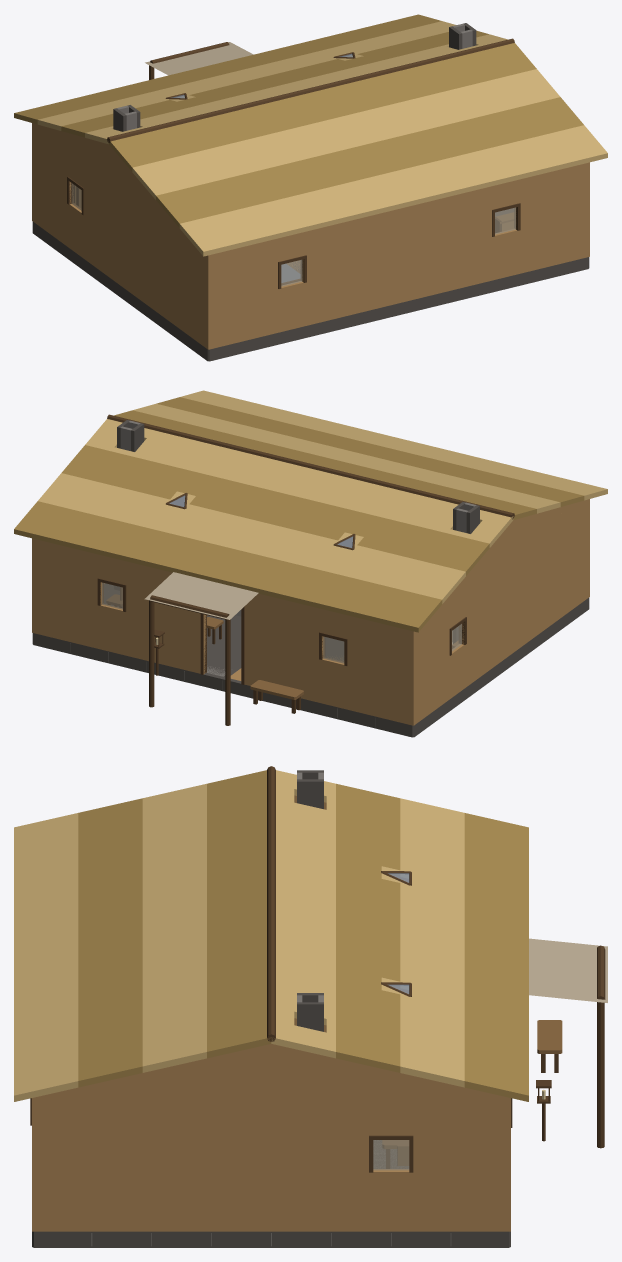
Rendered from SM_CASA_03_CASONA_ALTA.glb.
The picture shows the model from 3 angles, top to bottom: view 1: azimuth 30°, elevation 25°; view 2: azimuth 150°, elevation 25°; view 3: azimuth 270°, elevation 25°; orthographic projection. The views are drawn at different scales.
Parts seen in each view (by area): view 1: SM_Techo_Izq, SM_Pared_Norte, SM_Pared_Oeste, SM_Techo_Der, SM_Cimiento, SM_Cumbrera, SM_Portico, SM_Chimenea_1, SM_Chimenea_2, SM_Pared_Interior_1; view 2: SM_Techo_Der, SM_Pared_Sur, SM_Pared_Oeste, SM_Techo_Izq, SM_Cimiento, SM_Portico, SM_Cumbrera, SM_Chimenea_1, SM_Chimenea_2, SM_Mesa_Comedor; view 3: SM_Pared_Este, SM_Techo_Izq, SM_Techo_Der, SM_Cimiento, SM_Portico, SM_Cumbrera, SM_Chimenea_1, SM_Chimenea_2.
Boxes of the visible parts, bbox=[...] form: SM_Techo_Izq: bbox=[108, 43, 607, 256]; SM_Pared_Norte: bbox=[205, 162, 589, 349]; SM_Pared_Oeste: bbox=[32, 123, 212, 349]; SM_Techo_Der: bbox=[14, 14, 507, 144]; SM_Cimiento: bbox=[32, 208, 589, 361]; SM_Cumbrera: bbox=[107, 38, 514, 142]; SM_Portico: bbox=[145, 42, 253, 79]; SM_Chimenea_1: bbox=[113, 105, 140, 131]; SM_Chimenea_2: bbox=[449, 23, 476, 49]; SM_Pared_Interior_1: bbox=[397, 208, 401, 303]; SM_Techo_Der: bbox=[14, 419, 513, 632]; SM_Pared_Sur: bbox=[32, 538, 414, 725]; SM_Pared_Oeste: bbox=[409, 500, 587, 725]; SM_Techo_Izq: bbox=[114, 390, 607, 520]; SM_Cimiento: bbox=[32, 583, 589, 737]; SM_Portico: bbox=[144, 572, 303, 725]; SM_Cumbrera: bbox=[107, 414, 514, 519]; SM_Chimenea_1: bbox=[453, 502, 479, 643]; SM_Chimenea_2: bbox=[117, 420, 144, 451]; SM_Mesa_Comedor: bbox=[106, 587, 223, 644]; SM_Pared_Este: bbox=[32, 1044, 510, 1231]; SM_Techo_Izq: bbox=[14, 770, 271, 1101]; SM_Techo_Der: bbox=[271, 770, 528, 1101]; SM_Cimiento: bbox=[32, 1140, 510, 1247]; SM_Portico: bbox=[529, 938, 607, 1148]; SM_Cumbrera: bbox=[267, 766, 275, 1041]; SM_Chimenea_1: bbox=[297, 770, 323, 809]; SM_Chimenea_2: bbox=[297, 993, 323, 1031].
Bounding box in the file's own units: 10.6 × 4.29 × 9.92.
